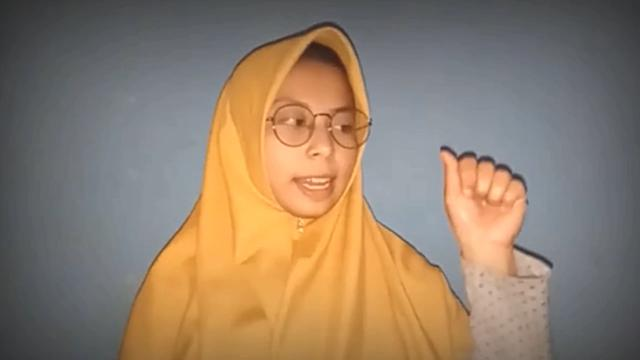A: (435, 140, 537, 244)
